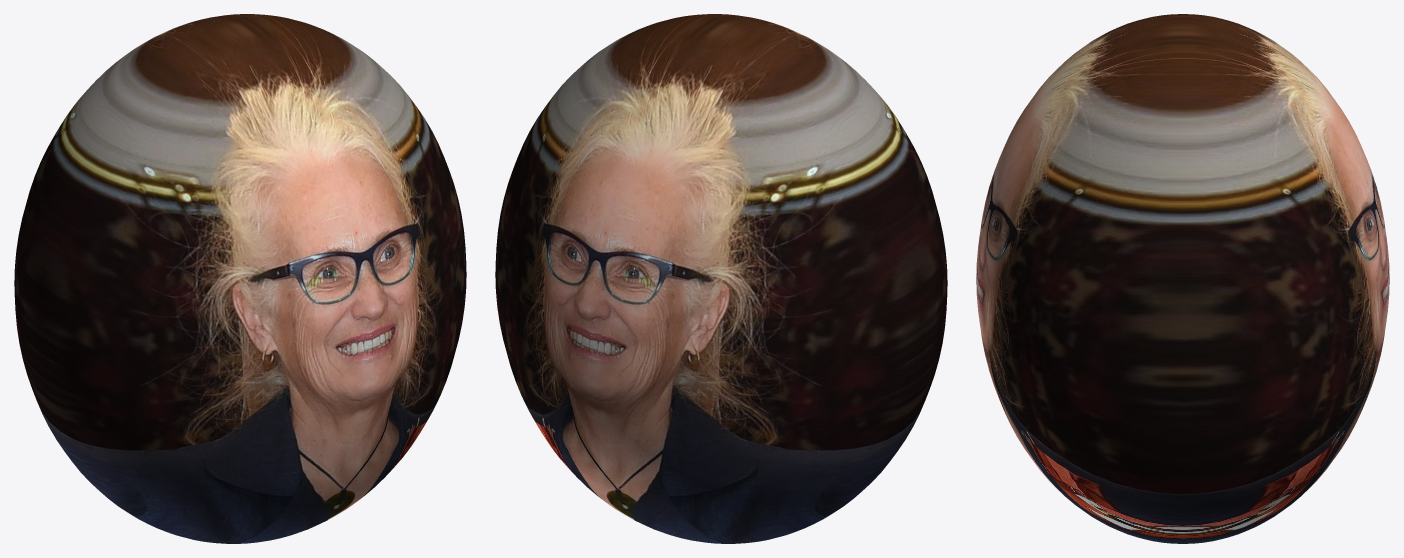
The picture shows the model from 3 angles, left to right: view 1: azimuth 30°, elevation 25°; view 2: azimuth 150°, elevation 25°; view 3: azimuth 270°, elevation 25°; orthographic projection.
Parts seen in each view (by area): view 1: head; view 2: head; view 3: head.
Part boxes in pixels (x1=…): head: x1=14, y1=14, x2=466, y2=543; head: x1=495, y1=14, x2=947, y2=543; head: x1=976, y1=14, x2=1389, y2=543.
Bounding box in the file's own units: 1.69 × 2 × 1.52.
Materials: 1 (1 with a texture image).
